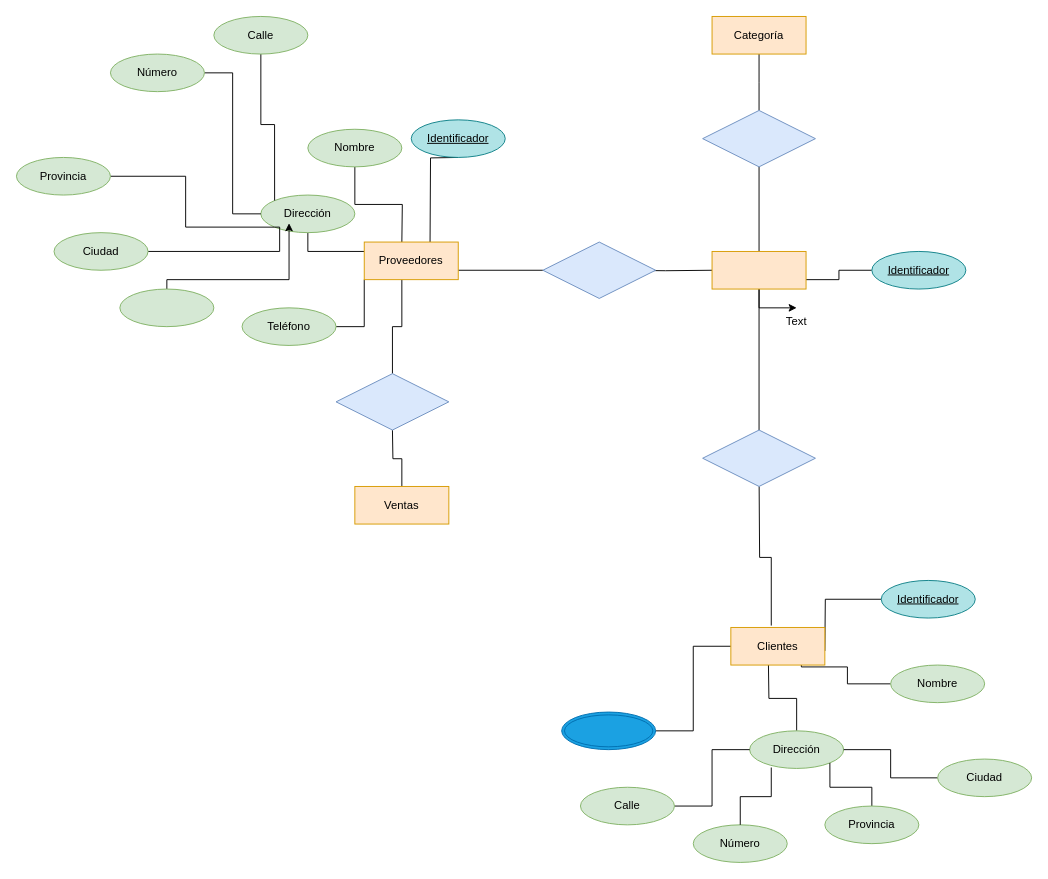
Some shapes in this 1048 by 879 pixel diagram are drawn without their labels. The centre of each missing label's shape, as x and y in pixels:
compra: point 758,457
Productos: point 758,270
Provee: point 599,269
Página Web: point 166,307
Registra: point 392,401
Se categoriza: point 758,138
Teléfon: point 608,730
